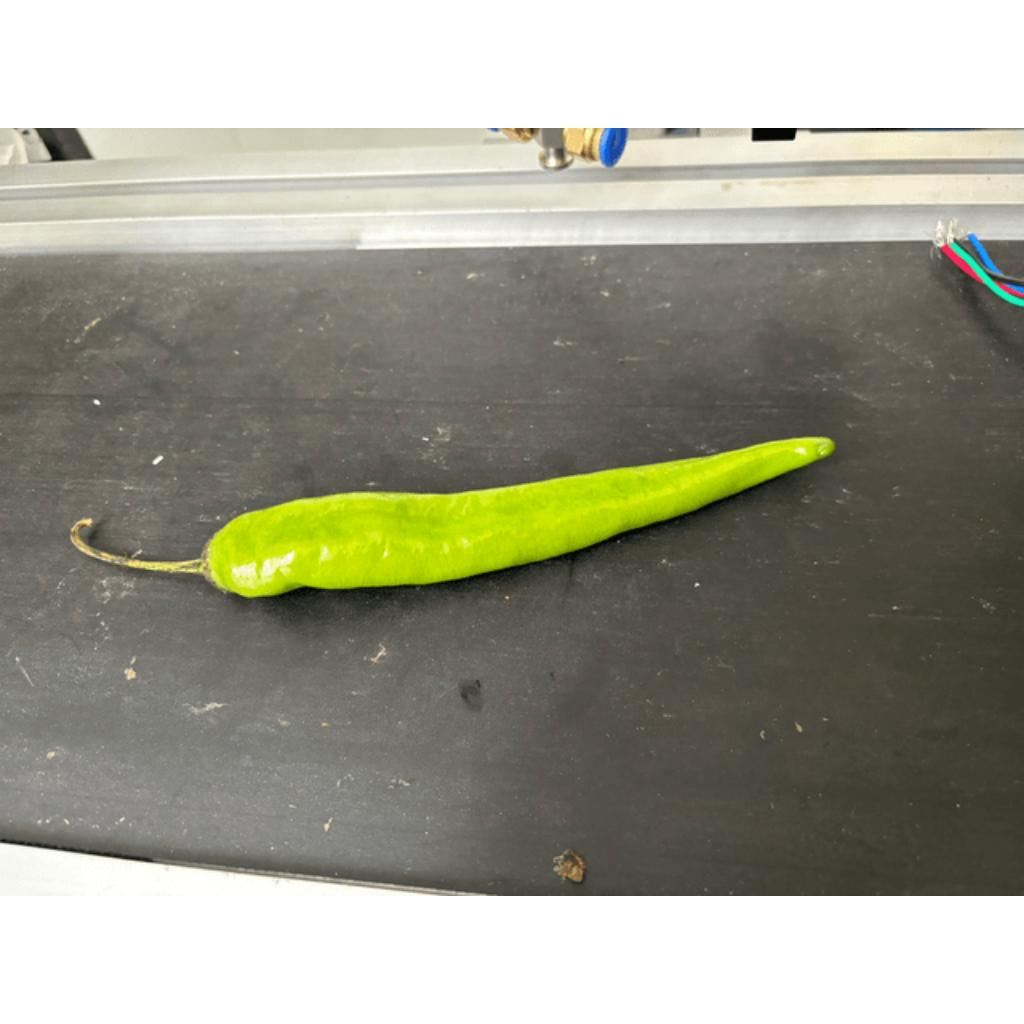chili: (193, 434, 842, 601)
